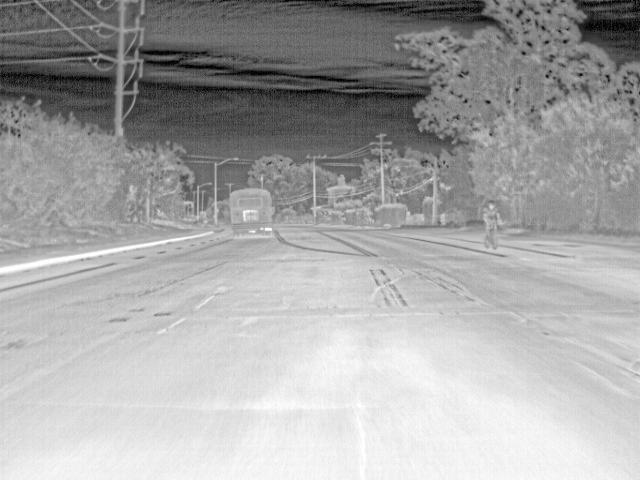person: (482, 200, 501, 239)
